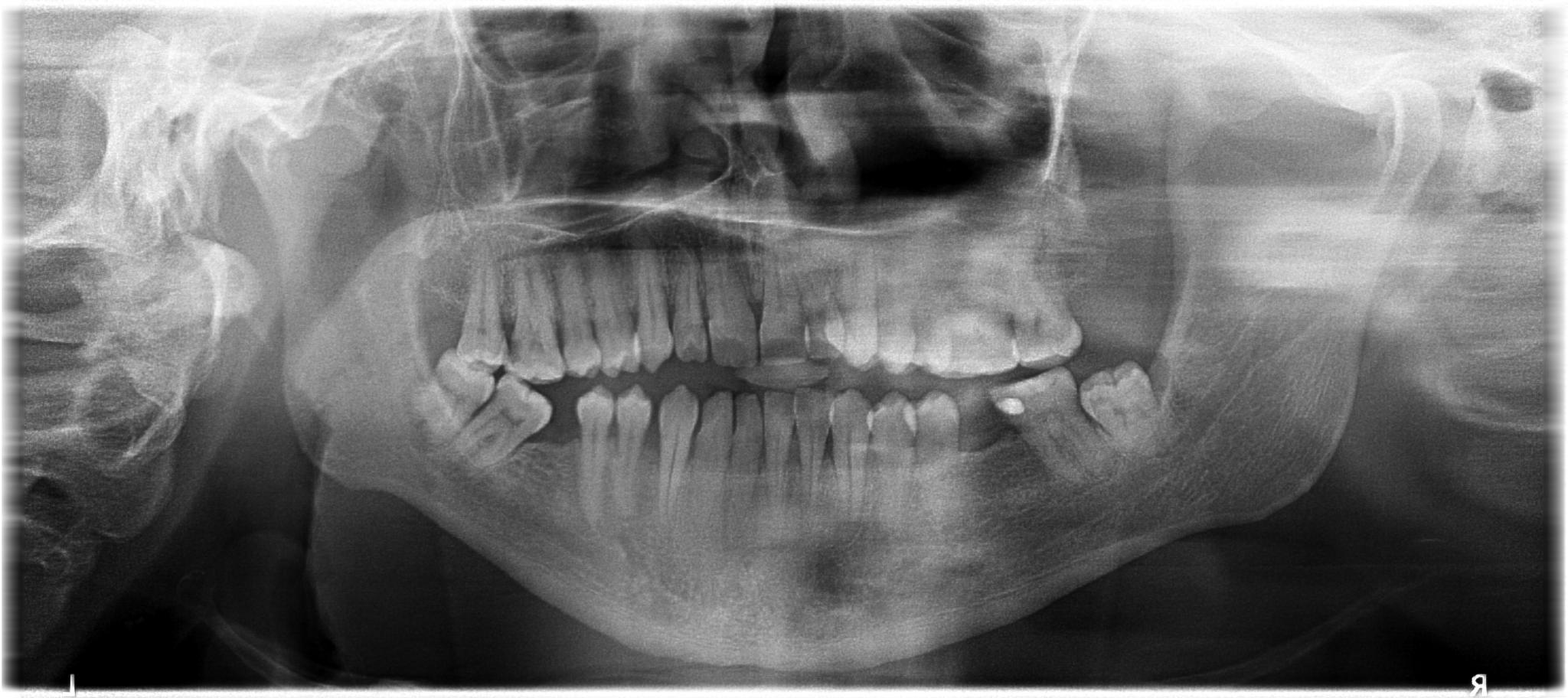Premolars: (543, 217, 1568, 593), (603, 242, 1568, 605), (255, 104, 763, 433)
